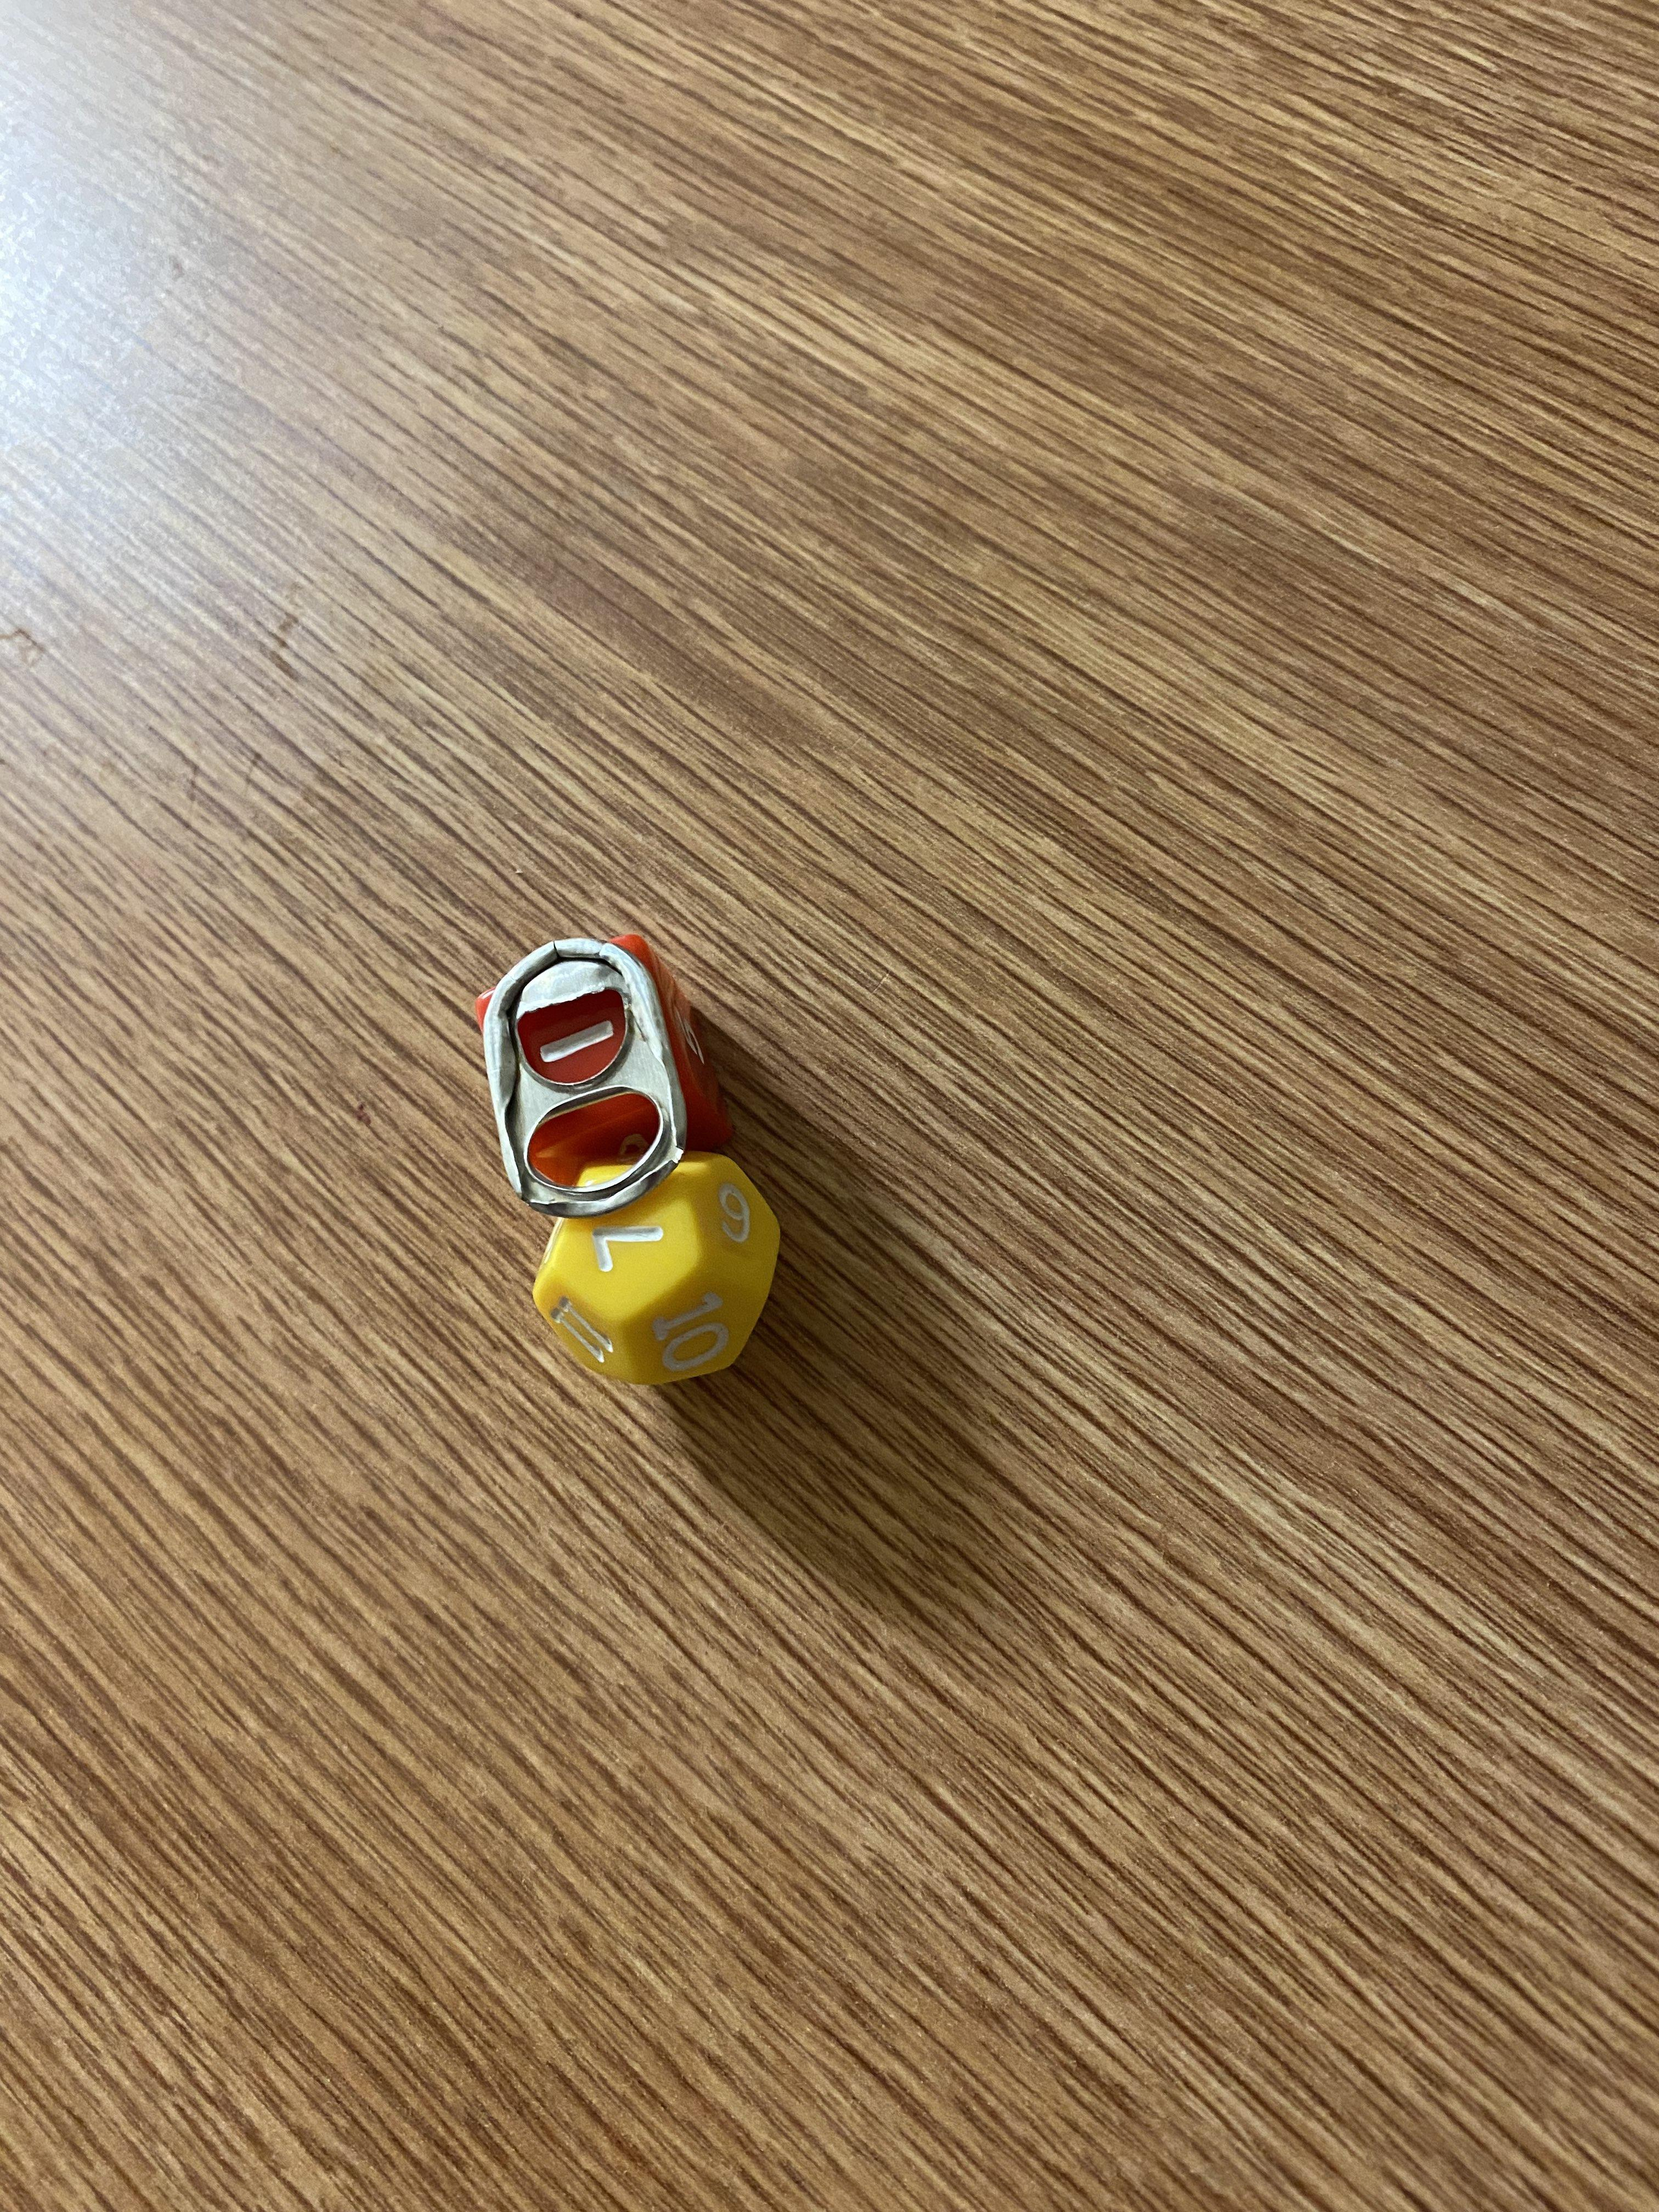one: (429, 900, 687, 1139)
seven: (491, 1153, 814, 1400)
